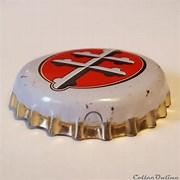metal: (10, 49, 172, 140)
